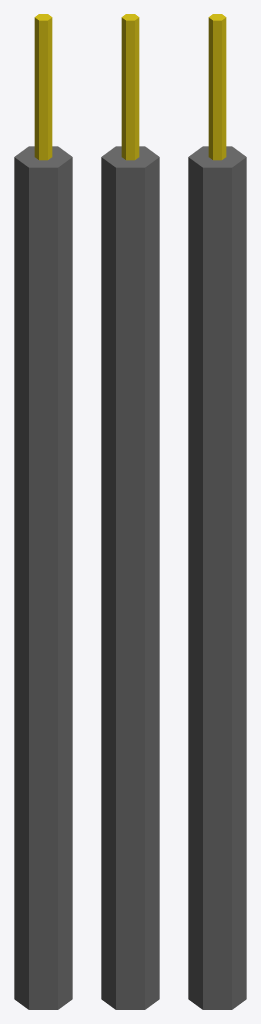
File: tower.glb
3 renders of one model, left to right at view 1: azimuth 90°, elevation 25°; view 2: azimuth 210°, elevation 25°; view 3: azimuth 270°, elevation 25°, orthographic.
Visible parts, largest first — view 1: Tower; view 2: Tower; view 3: Tower.
Boxes of the visible parts, x1,y1,x2,y2 form: Tower: (14,14,72,1009); Tower: (101,14,159,1009); Tower: (188,14,246,1009).
Size of the model in its own units: 0.272 by 5.83 by 0.3141.
